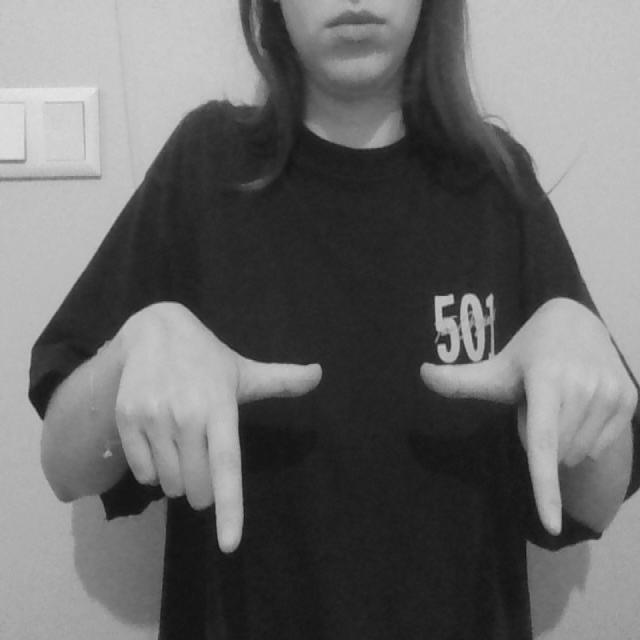Nerede: (207, 341, 568, 558)
